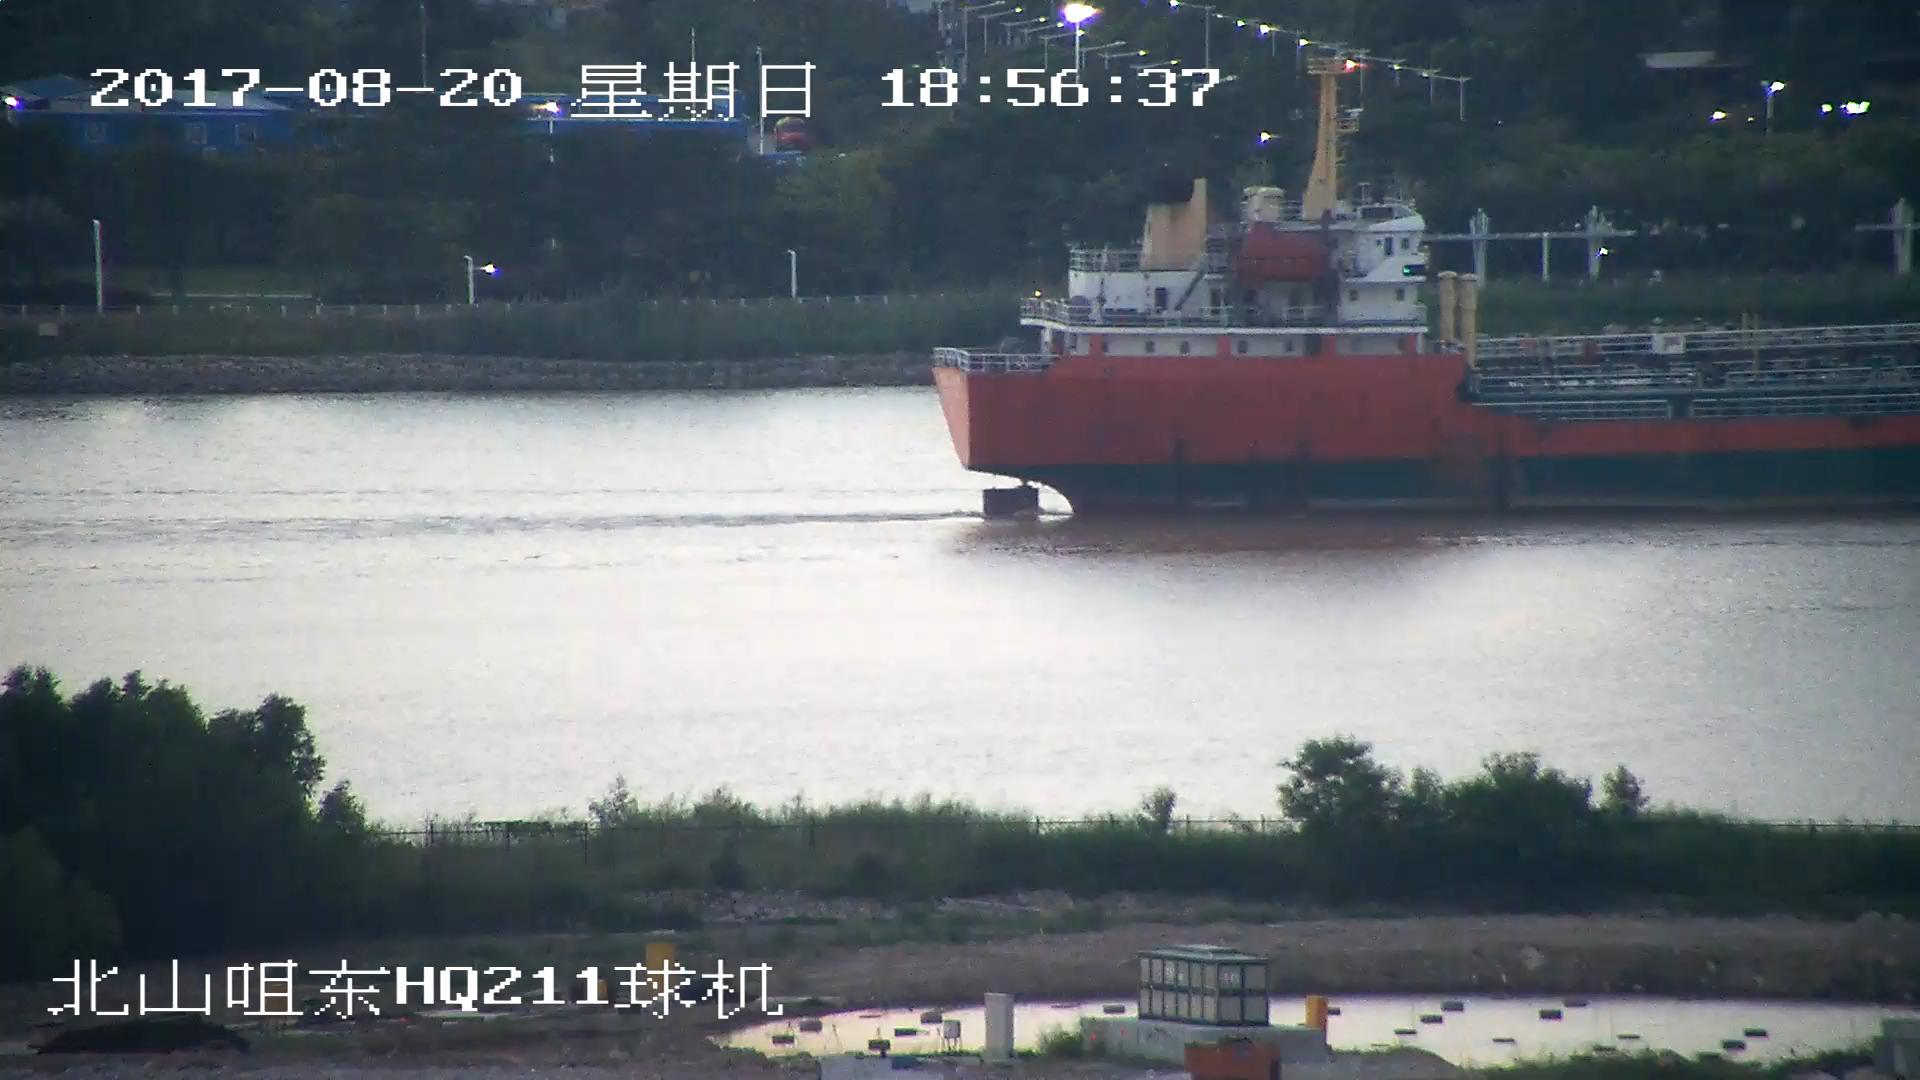Ship: (924, 121, 1920, 513)
